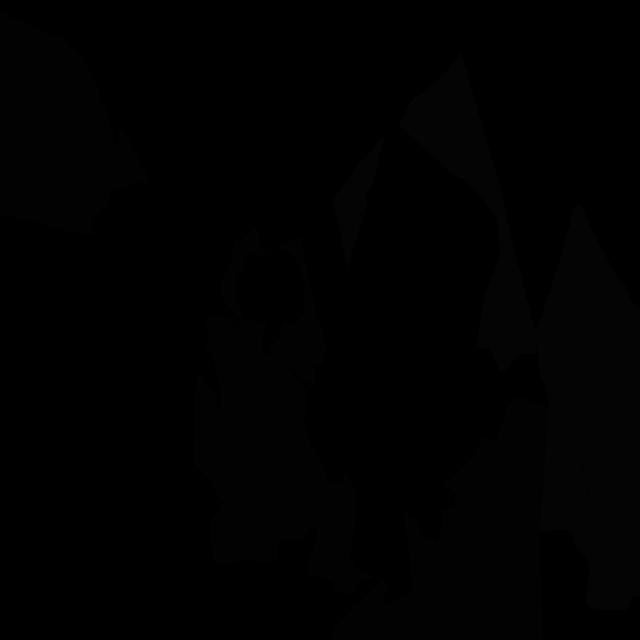cardboard: (326, 397, 548, 640), (193, 314, 374, 594), (0, 10, 150, 235), (220, 227, 327, 388)
soft_plastic: (398, 52, 537, 373), (536, 202, 640, 611), (540, 382, 620, 537), (332, 135, 385, 269)
